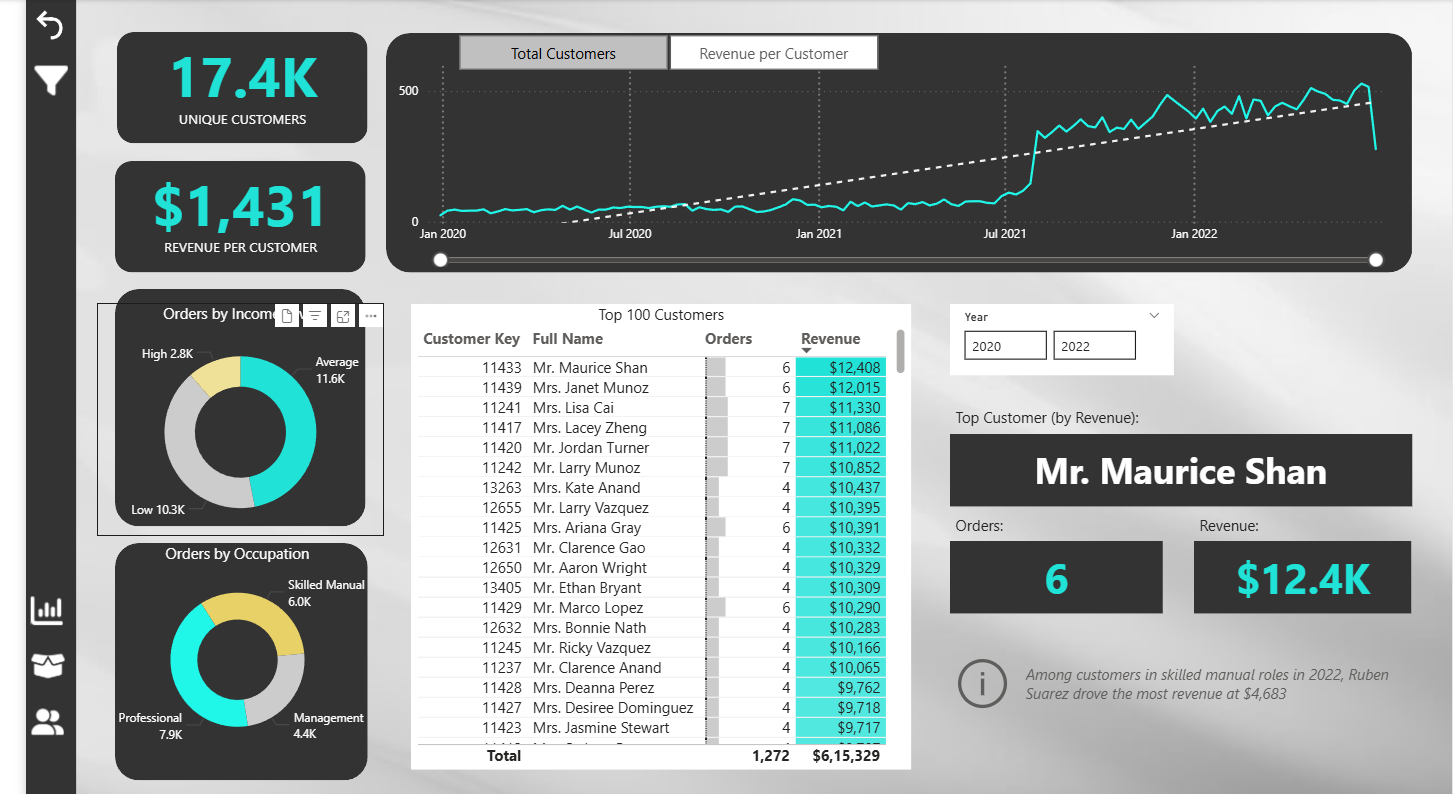

Layout of this report page (visuals, bound fields, positions):
{"tool":"powerbi","page":{"name":"Customer Detail","canvas":[1280,720],"ordinal":2},"visuals":[{"type":"shape","box":[323.2,30.5,921.4,215.1],"z":0},{"type":"shape","box":[79.6,260,225,213.2],"z":1000},{"type":"shape","box":[79.6,488.2,226.9,213.2],"z":2000},{"type":"shape","box":[0,0,45,720],"z":3000},{"type":"shape","box":[81.7,30,225,100],"z":4000},{"type":"shape","box":[80,145,225,100],"z":5000},{"type":"actionButton","box":[1,630.7,45.2,37.3],"z":5000,"group":"g1"},{"type":"card","fields":{"Values":["Measure Table.Total Customers"]},"box":[66.7,0,256.2,150],"z":6000},{"type":"card","fields":{"Values":["Measure Table.Average Revenue per Customer"]},"box":[64.8,114.9,256.4,150.3],"z":7000},{"type":"lineChart","fields":{"Y":["Measure Table.Total Customers"],"Category":["Calendar Lookup.Date Hierarchy.Year","Calendar Lookup.Date Hierarchy.Start of Month","Calendar Lookup.Date Hierarchy.Start of Week","Calendar Lookup.Date Hierarchy.Date"]},"box":[334,50.1,898.8,189.6],"z":8000},{"type":"donutChart","title":"Orders by Income Level","fields":{"Category":["Customer Lookup.Income Level"],"Y":["Measure Table.Total Orders"]},"box":[63.8,272.5,257.5,210],"z":9000},{"type":"donutChart","title":"Orders by Occupation","fields":{"Y":["Measure Table.Total Orders"],"Category":["Customer Lookup.Occupation"]},"box":[75.6,488.2,228.9,187.6],"z":10000},{"type":"tableEx","title":"Top 100 Customers","fields":{"Values":["Customer Lookup.CustomerKey","Customer Lookup.Full Name","Measure Table.Total Orders","Measure Table.Total Revenue"]},"box":[346,273.6,449.4,418.4],"z":11000},{"type":"card","fields":{"Values":["Min(Customer Lookup.Full Name)"]},"box":[829.6,390.1,414.5,65.1],"z":12000},{"type":"card","fields":{"Values":["Measure Table.Total Orders"]},"box":[829.6,487,190.7,65.1],"z":13000},{"type":"card","fields":{"Values":["Measure Table.Total Revenue"]},"box":[1048.7,487,195.4,65.1],"z":14000},{"type":"textbox","box":[829.6,361.7,190.7,37.9],"z":15000},{"type":"textbox","box":[829.6,458.4,190.7,37.9],"z":16000},{"type":"actionButton","box":[3.3,5.6,35.6,35.6],"z":17000,"group":"g1"},{"type":"textbox","box":[1048.7,458.4,190.7,37.9],"z":17000},{"type":"actionButton","box":[3.4,53.2,38.4,39.6],"z":18000,"group":"g1"},{"type":"slicer","fields":{"Values":["Calendar Lookup.Year"]},"box":[829.9,274,200.8,64.3],"z":18000},{"type":"actionButton","box":[830,586.7,410,56.7],"z":19000},{"type":"actionButton","box":[0,530.5,45.2,37.3],"z":19500,"group":"g1"},{"type":"slicer","fields":{"Values":["Customer Metric Selection.Customer Metric Selection"]},"box":[368.4,30.5,415.5,35.4],"z":20000},{"type":"actionButton","box":[0.8,580.4,45.6,37.8],"z":20000,"group":"g1"},{"type":"group","id":"g1","title":"navigation buttons","box":[0,5.6,46.4,662.4],"z":21000}]}

Visuals, with their boxes in screenshot pixels (x1, y1, x2, y2):
shape: left=384, top=27, right=1423, bottom=270
shape: left=109, top=286, right=363, bottom=526
shape: left=109, top=543, right=365, bottom=784
shape: left=19, top=0, right=70, bottom=793
shape: left=111, top=26, right=365, bottom=139
shape: left=109, top=156, right=363, bottom=269
actionButton: left=20, top=704, right=71, bottom=746
card - Measure Table.Total Customers: left=94, top=0, right=383, bottom=162
card - Measure Table.Average Revenue per Customer: left=92, top=122, right=381, bottom=292
lineChart - Measure Table.Total Customers x Calendar Lookup.Date Hierarchy.Year: left=396, top=49, right=1410, bottom=263
"Orders by Income Level" donutChart: left=91, top=300, right=381, bottom=537
"Orders by Occupation" donutChart: left=104, top=543, right=363, bottom=755
"Top 100 Customers" tableEx: left=409, top=301, right=916, bottom=773
card - Min(Customer Lookup.Full Name): left=955, top=433, right=1423, bottom=506
card - Measure Table.Total Orders: left=955, top=542, right=1170, bottom=615
card - Measure Table.Total Revenue: left=1202, top=542, right=1423, bottom=615
textbox: left=955, top=401, right=1170, bottom=443
textbox: left=955, top=510, right=1170, bottom=552
actionButton: left=23, top=0, right=63, bottom=39
textbox: left=1202, top=510, right=1417, bottom=552
actionButton: left=23, top=52, right=66, bottom=97
slicer - Calendar Lookup.Year: left=955, top=302, right=1182, bottom=374
actionButton: left=955, top=654, right=1418, bottom=718
actionButton: left=19, top=591, right=70, bottom=633
slicer - Customer Metric Selection.Customer Metric Selection: left=435, top=27, right=903, bottom=67
actionButton: left=20, top=647, right=71, bottom=690
"navigation buttons" group: left=19, top=0, right=71, bottom=746
